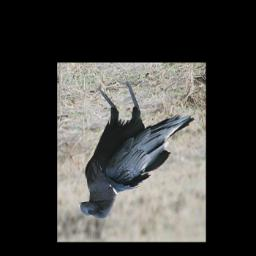Crow: (77, 81, 194, 219)
